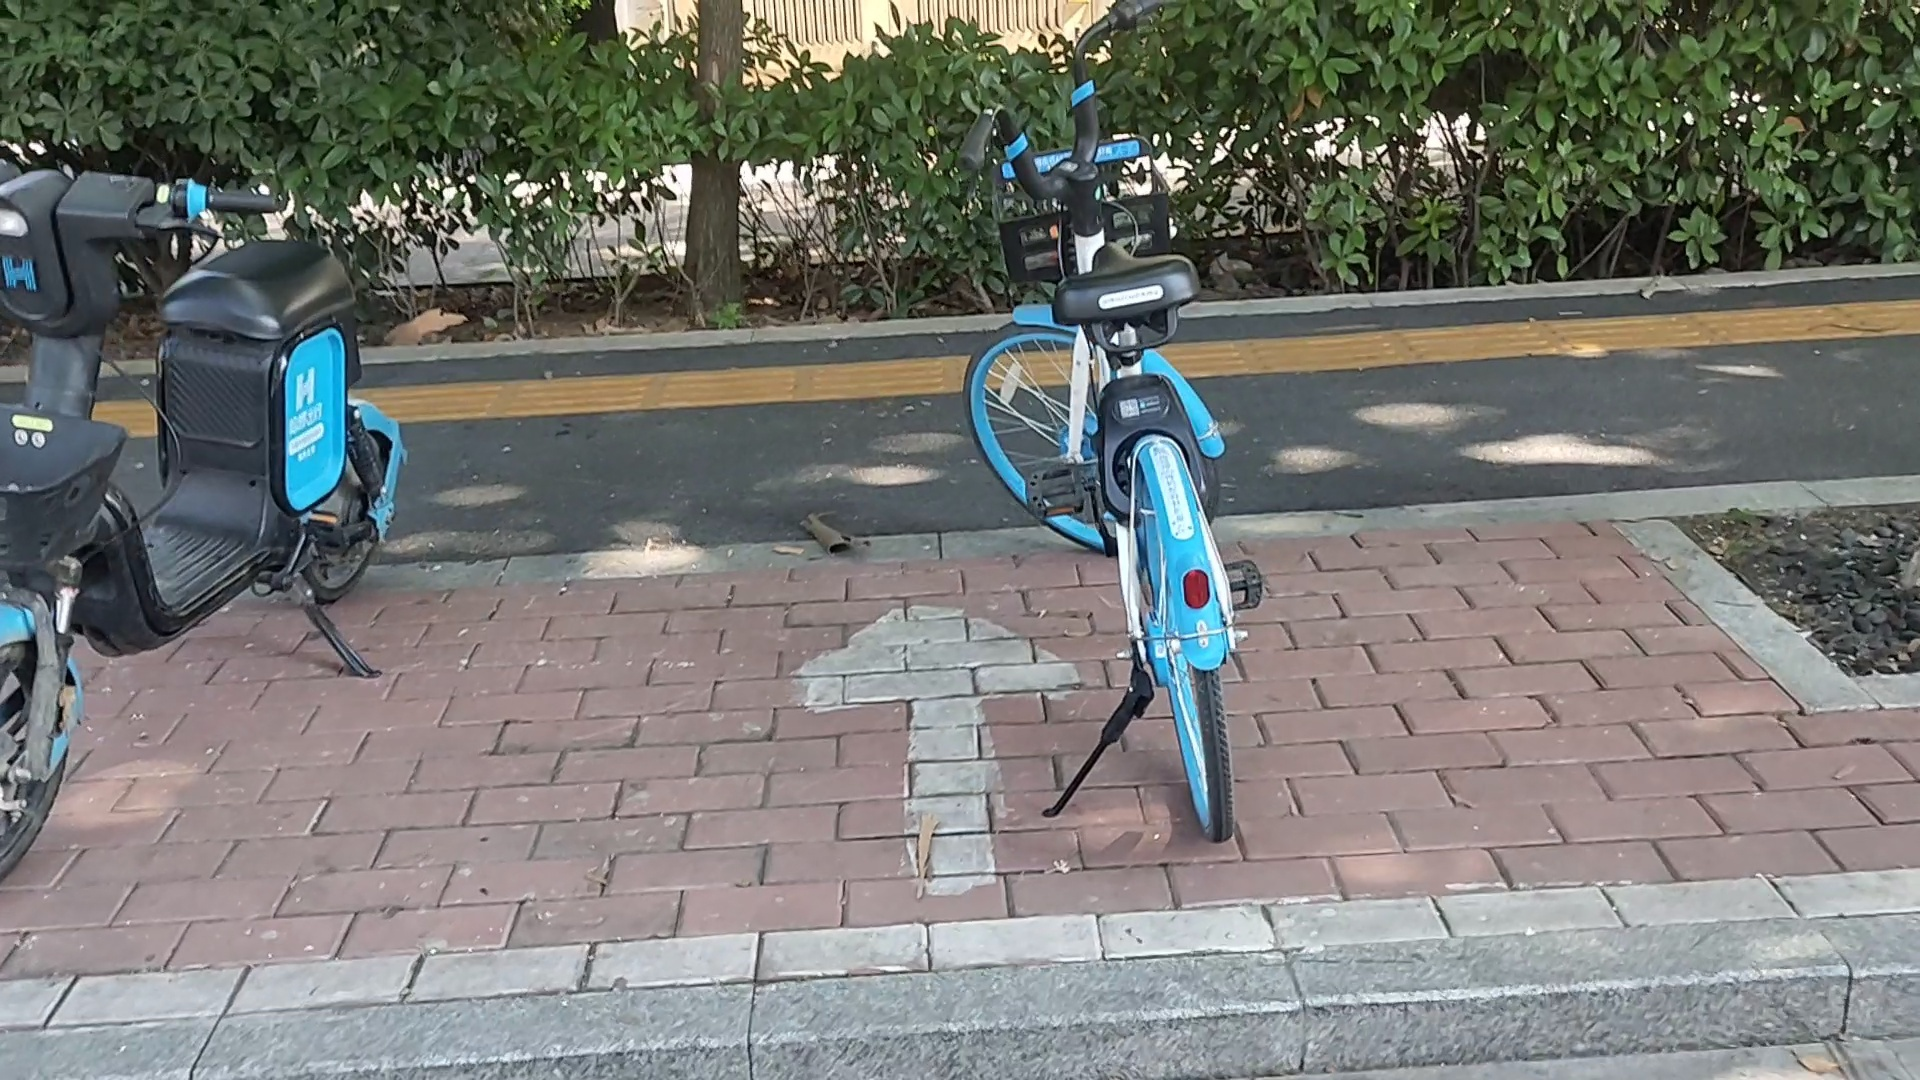non-vehicle: (3, 137, 417, 945), (963, 0, 1240, 851)
